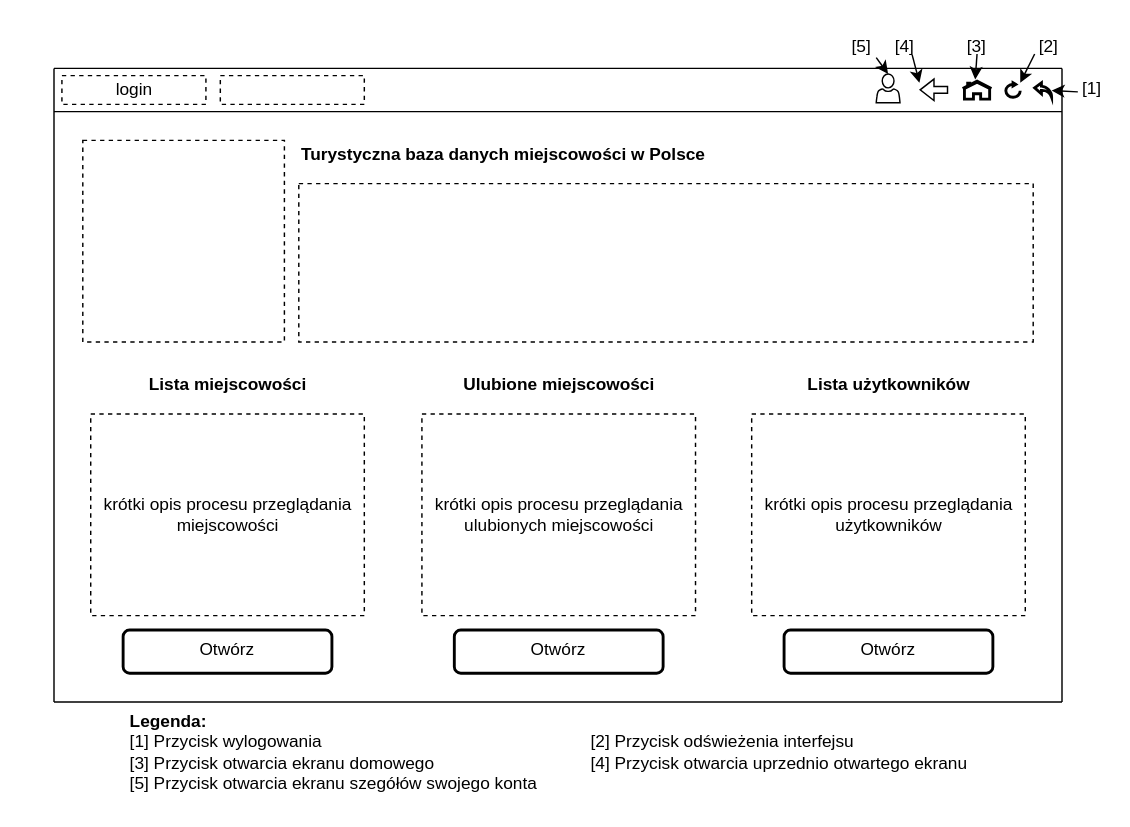
Some shapes in this 1130 by 827 pixel diagram are drawn without their labels. Here are the shapes that lost their labels. From the top down, the centre of each, then its label:
At (291,89): "rola".
At (182,240): "ilustracja".
At (665,262): "krótki opis bazy danych".
